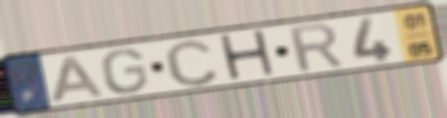4: (351, 14, 396, 65)
A: (50, 54, 108, 105)
C: (161, 37, 222, 88)
G: (100, 47, 151, 96)
H: (216, 27, 280, 85)
R: (285, 20, 348, 75)
